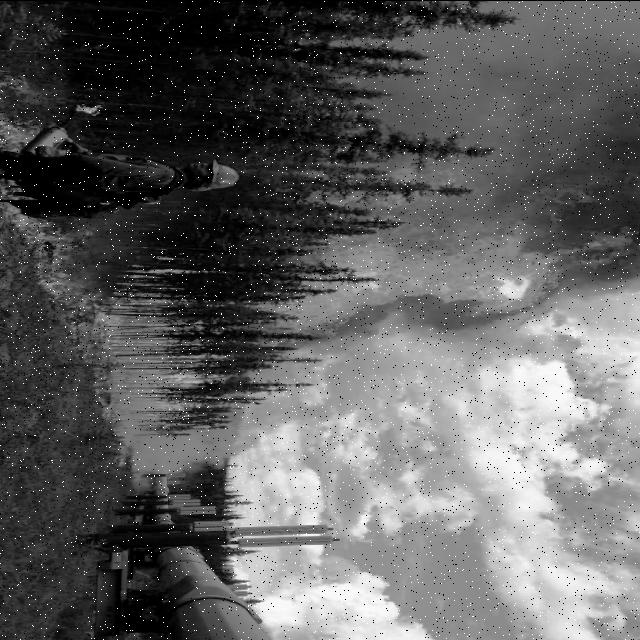api: (302, 226, 530, 312), (8, 205, 73, 295), (531, 244, 636, 286), (72, 302, 164, 345), (160, 366, 218, 414), (313, 313, 383, 341), (1, 121, 41, 149)
asap: (403, 2, 640, 174), (296, 345, 504, 429), (442, 168, 638, 229), (125, 430, 253, 479)
